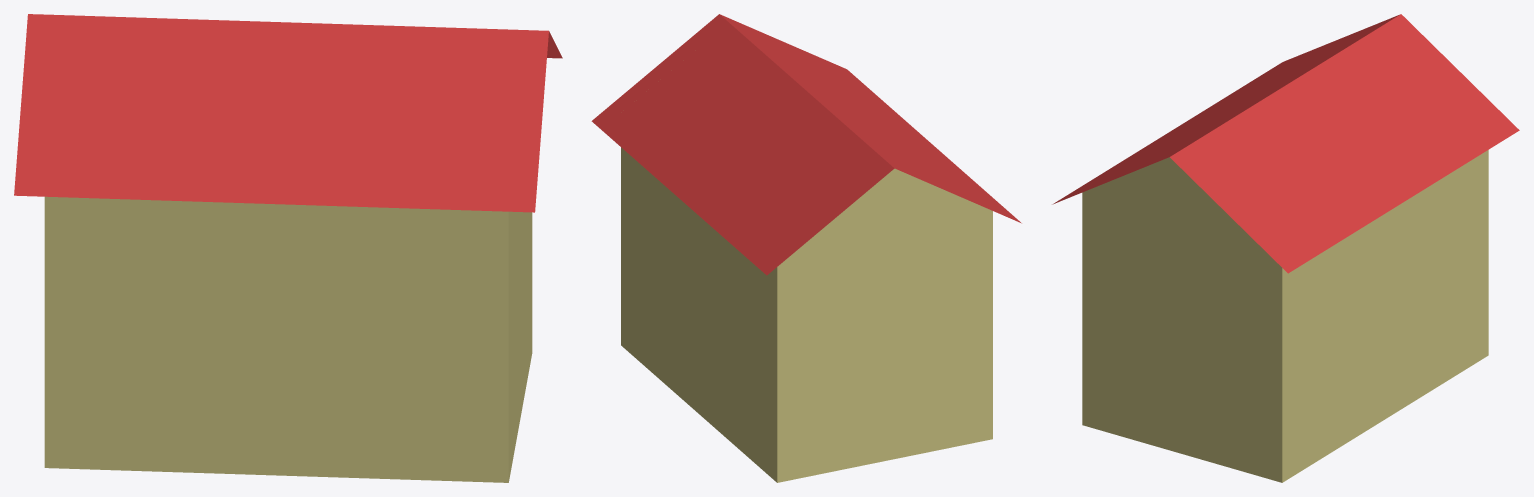
The picture shows the model from 3 angles, left to right: view 1: azimuth 30°, elevation 25°; view 2: azimuth 150°, elevation 25°; view 3: azimuth 270°, elevation 25°; orthographic projection. The views are drawn at different scales.
Size of the model in its own units: 11.16 by 10.44 by 7.49.
